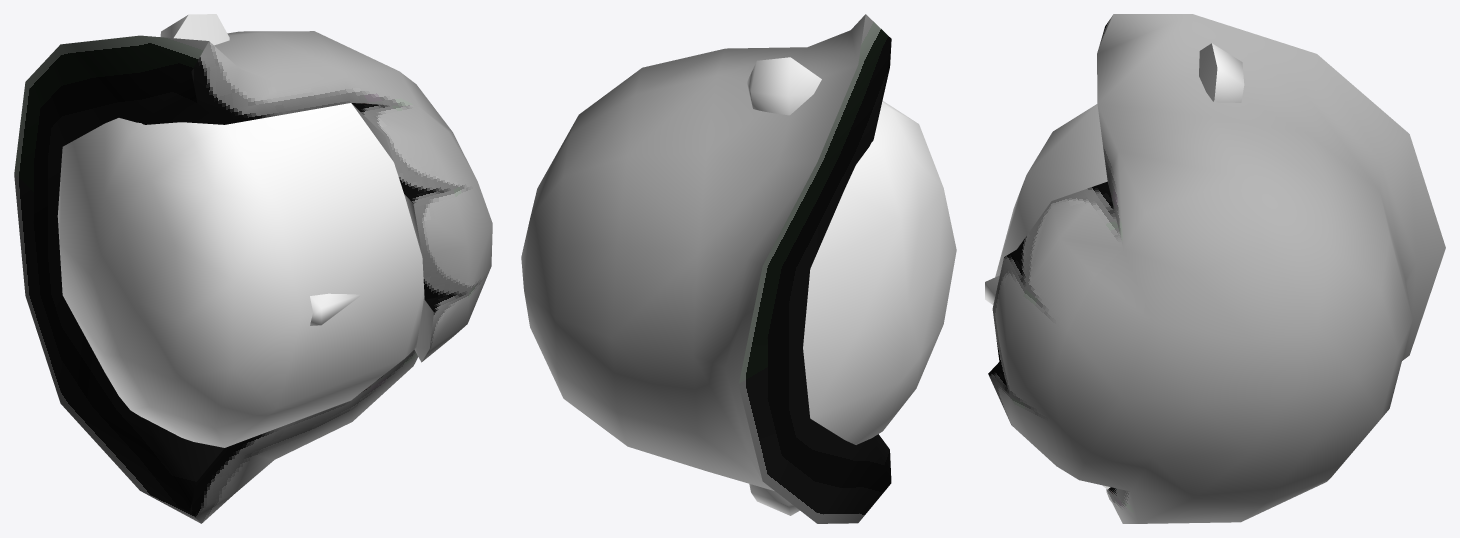
Rendered from girl01a.dae.
3 renders of one model, left to right at view 1: azimuth 30°, elevation 25°; view 2: azimuth 150°, elevation 25°; view 3: azimuth 270°, elevation 25°, orthographic. The views are drawn at different scales.
Visible parts, largest first — view 1: girl01a; view 2: girl01a; view 3: girl01a.
Boxes of the visible parts, x1=… form: girl01a: x1=14, y1=14, x2=492, y2=523; girl01a: x1=521, y1=14, x2=956, y2=523; girl01a: x1=985, y1=14, x2=1445, y2=523.
Size of the model in its own units: 21.83 by 28.44 by 23.65.
Materials: 3 (1 with a texture image).
